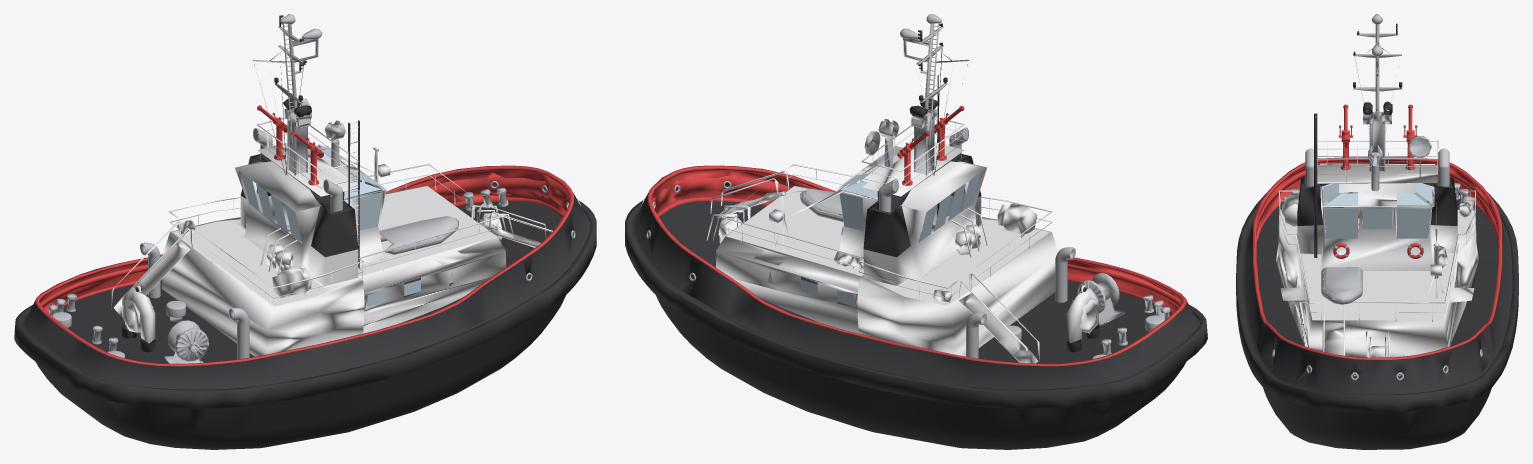
The model's file is archmodels55-27.glb.
3 views of the same model, side by side, from view 1: azimuth 30°, elevation 25°; view 2: azimuth 150°, elevation 25°; view 3: azimuth 270°, elevation 25° (orthographic). The views are drawn at different scales.
Visible parts, largest first — view 1: Archmodels55_27_black, Archmodels55_27_white, Archmodels55_27_black2, Archmodels55_27_red, Archmodels55_27_green_board, Archmodels55_27_glass, Archmodels55_27_antenna, Archmodels55_27_rb2, Archmodels55_27_sth4, Archmodels55_27_rb, Archmodels55_27_sth3, Archmodels55_27_sth2 (+3 smaller); view 2: Archmodels55_27_black, Archmodels55_27_white, Archmodels55_27_black2, Archmodels55_27_green_board, Archmodels55_27_red, Archmodels55_27_glass, Archmodels55_27_antenna, Archmodels55_27_rb2, Archmodels55_27_sth3, Archmodels55_27_sth4, Archmodels55_27_red2, Archmodels55_27_exhaust (+2 smaller); view 3: Archmodels55_27_black, Archmodels55_27_white, Archmodels55_27_black2, Archmodels55_27_green_board, Archmodels55_27_red, Archmodels55_27_glass, Archmodels55_27_antenna, Archmodels55_27_rb2, Archmodels55_27_rb, Archmodels55_27_red2, Archmodels55_27_exhaust.
Part boxes in pixels (left/top/right/bottom): Archmodels55_27_black: left=22, top=51, right=590, bottom=449; Archmodels55_27_white: left=111, top=117, right=552, bottom=356; Archmodels55_27_black2: left=14, top=15, right=596, bottom=408; Archmodels55_27_red: left=35, top=165, right=573, bottom=366; Archmodels55_27_green_board: left=174, top=186, right=495, bottom=305; Archmodels55_27_glass: left=241, top=147, right=453, bottom=306; Archmodels55_27_antenna: left=252, top=23, right=318, bottom=175; Archmodels55_27_rb2: left=280, top=14, right=458, bottom=254; Archmodels55_27_sth4: left=164, top=320, right=208, bottom=363; Archmodels55_27_rb: left=379, top=216, right=458, bottom=252; Archmodels55_27_sth3: left=140, top=242, right=249, bottom=359; Archmodels55_27_sth2: left=48, top=187, right=508, bottom=351; Archmodels55_27_black: left=631, top=48, right=1199, bottom=449; Archmodels55_27_white: left=706, top=74, right=1099, bottom=363; Archmodels55_27_black2: left=625, top=23, right=1207, bottom=408; Archmodels55_27_green_board: left=726, top=186, right=1047, bottom=305; Archmodels55_27_red: left=647, top=165, right=1186, bottom=366; Archmodels55_27_glass: left=768, top=147, right=980, bottom=306; Archmodels55_27_antenna: left=903, top=23, right=969, bottom=175; Archmodels55_27_rb2: left=801, top=14, right=941, bottom=221; Archmodels55_27_sth3: left=966, top=247, right=1075, bottom=358; Archmodels55_27_sth4: left=1077, top=273, right=1124, bottom=325; Archmodels55_27_red2: left=841, top=105, right=964, bottom=234; Archmodels55_27_exhaust: left=879, top=119, right=968, bottom=212; Archmodels55_27_black: left=1242, top=48, right=1512, bottom=449; Archmodels55_27_white: left=1276, top=116, right=1478, bottom=357; Archmodels55_27_black2: left=1236, top=23, right=1518, bottom=412; Archmodels55_27_green_board: left=1282, top=211, right=1472, bottom=320; Archmodels55_27_red: left=1252, top=157, right=1502, bottom=359; Archmodels55_27_glass: left=1302, top=183, right=1452, bottom=329; Archmodels55_27_antenna: left=1353, top=24, right=1401, bottom=171; Archmodels55_27_rb2: left=1321, top=14, right=1431, bottom=304; Archmodels55_27_rb: left=1321, top=245, right=1422, bottom=301; Archmodels55_27_red2: left=1333, top=104, right=1423, bottom=258; Archmodels55_27_exhaust: left=1305, top=148, right=1449, bottom=186.
Bounding box in the file's own units: 24.74 × 16.95 × 11.92.
